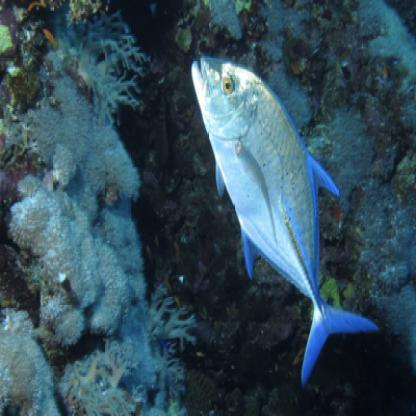Bio: (180, 41, 381, 388)
